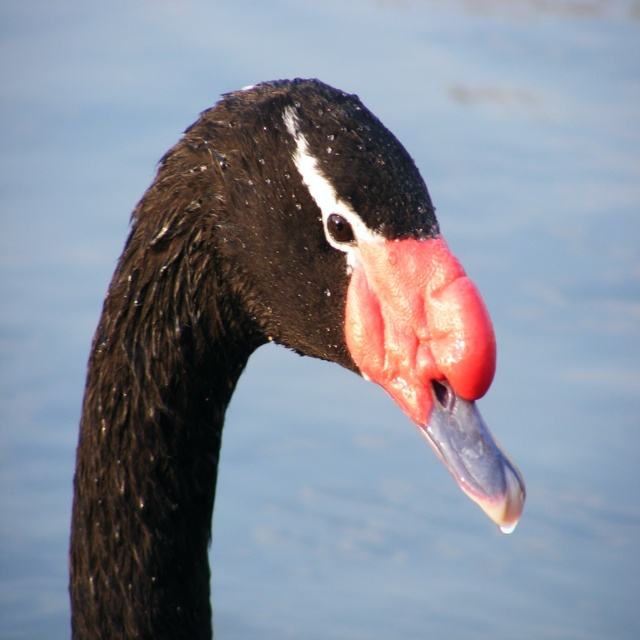Swan: (68, 77, 526, 640)
